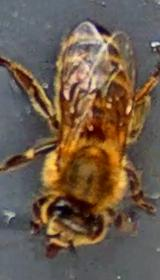varroa_mite: (74, 113, 112, 148)
